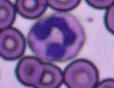N: (28, 13, 84, 62)
